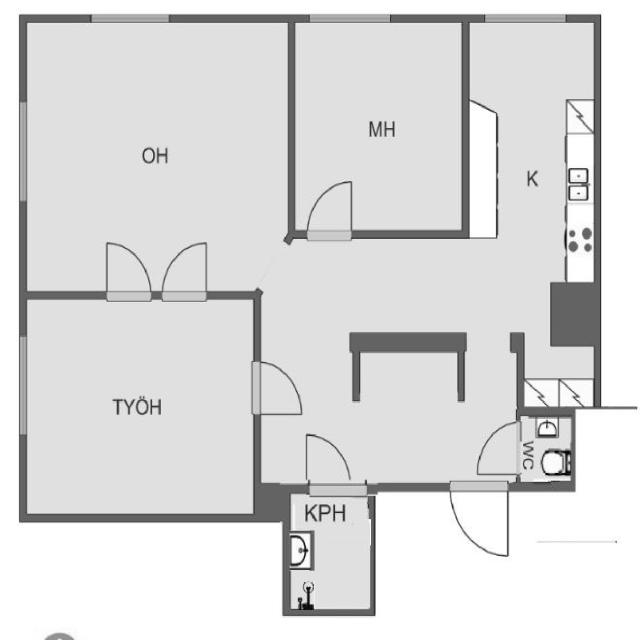door: (443, 476, 513, 560), (300, 173, 358, 243), (246, 354, 305, 419), (98, 237, 156, 303), (296, 427, 356, 490), (158, 235, 213, 302), (472, 415, 524, 479)
window: (11, 96, 34, 206), (14, 332, 32, 438), (481, 10, 571, 28), (305, 10, 395, 27), (88, 10, 174, 27)
zone: (24, 16, 292, 295), (19, 299, 255, 514), (464, 15, 600, 339), (290, 17, 468, 234), (357, 346, 460, 486), (287, 488, 375, 612), (517, 282, 601, 408), (517, 412, 574, 488)
